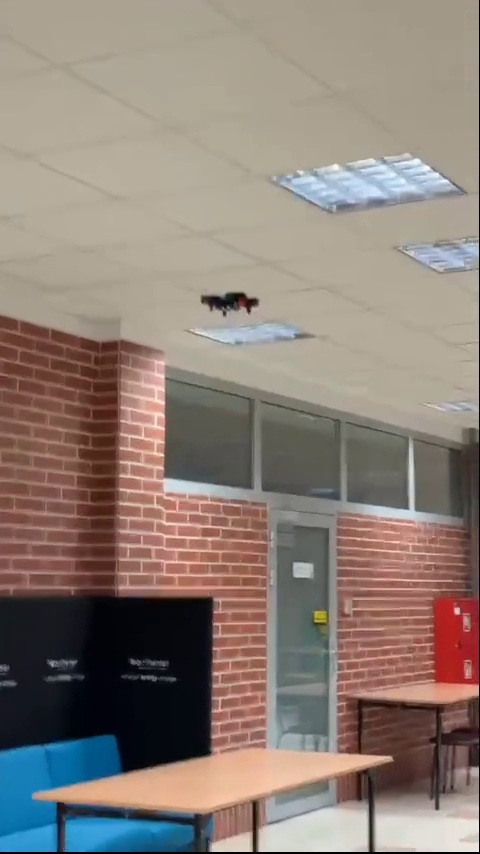drone: (203, 291, 260, 313)
